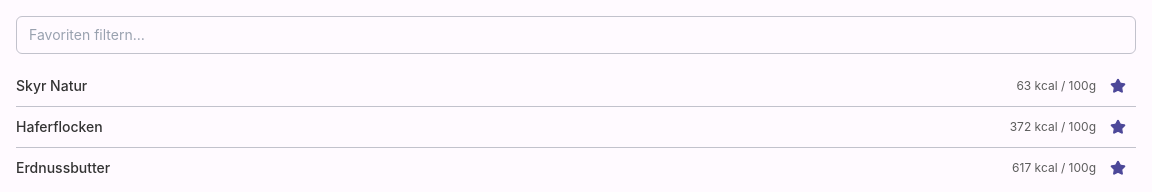
Test: FavoritesPanel › filters the loaded list fuzzily without a request per keystroke
This screenshot has width=1152, height=192.
Expected: the text "Skyr Natur" is shown, [16,77,87,94]
Type "skir" into the search field at (576, 35), box [16,16,1136,54]
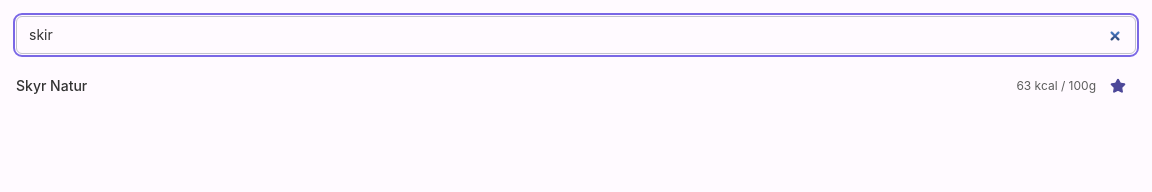
Expected: the text "Skyr Natur" is shown, [16,77,87,94]
Expected: the button "Haferflocken" is gone
